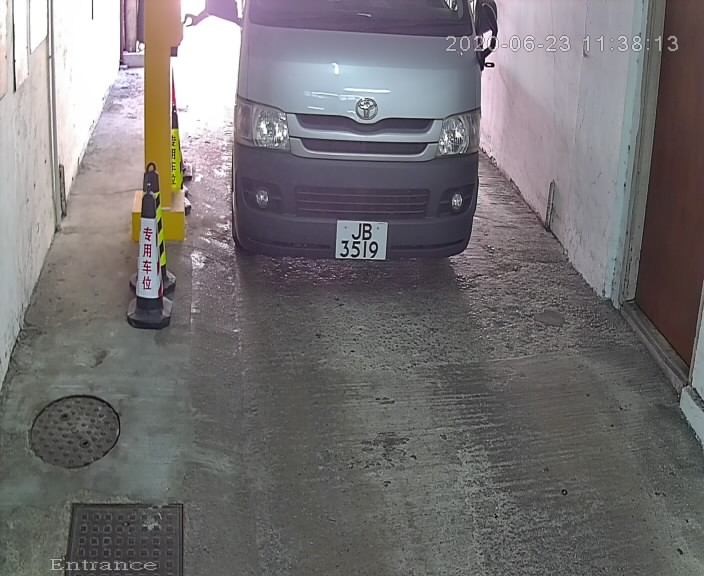van_s: (195, 1, 515, 289)
